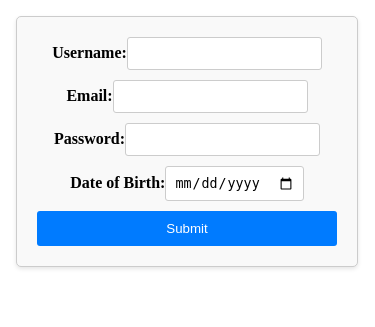
it: Registration form validation › should display validation errors for invalid email
Type "user" into the field named "username" next to "Username:".
click(225, 54); type("user")  # box x1=127 y1=37 x2=322 y2=70
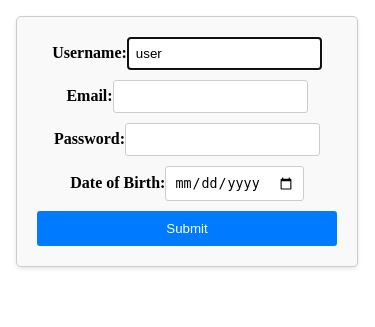
Type "my-email" into the field named "email" next to "Email:".
click(211, 97); type("my-email")  # box x1=113 y1=80 x2=308 y2=113
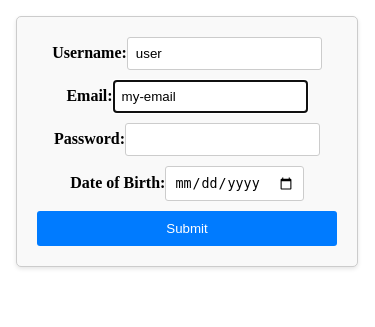
Type "123456" into the password field named "password".
click(223, 140); type("123456")  # box x1=125 y1=123 x2=320 y2=156
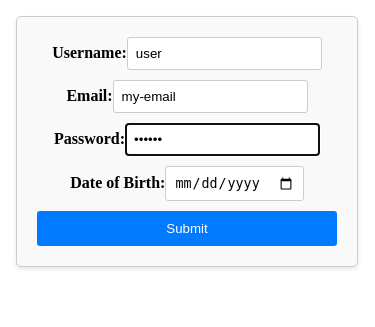
Type "2001-01-01" into the date field named "dob".
click(234, 184); type("2001-01-01")  # box x1=165 y1=166 x2=303 y2=201
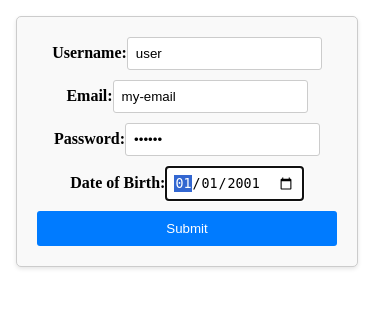
Click the button with test id "submit".
click(187, 229)  # box x1=37 y1=211 x2=337 y2=246
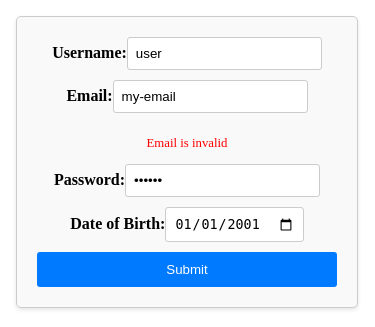
Check: the text "Email is invalid" is shown, box x1=146 y1=136 x2=228 y2=150
Check: the text with class "error" reads "Email is invalid", box x1=146 y1=136 x2=227 y2=150
